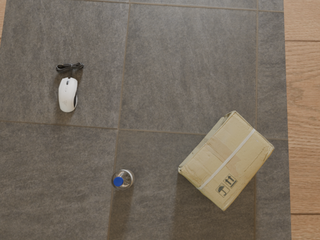bottle: (111, 169, 135, 191)
box: (178, 111, 274, 211)
mouse: (59, 76, 77, 112)
